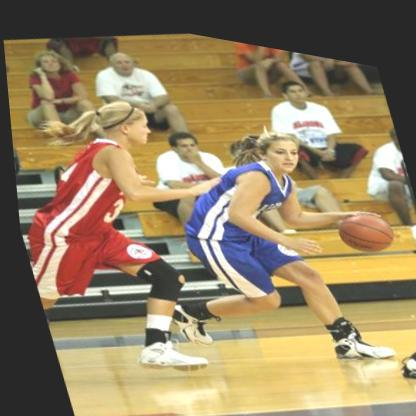basketball: (332, 191, 395, 249)
